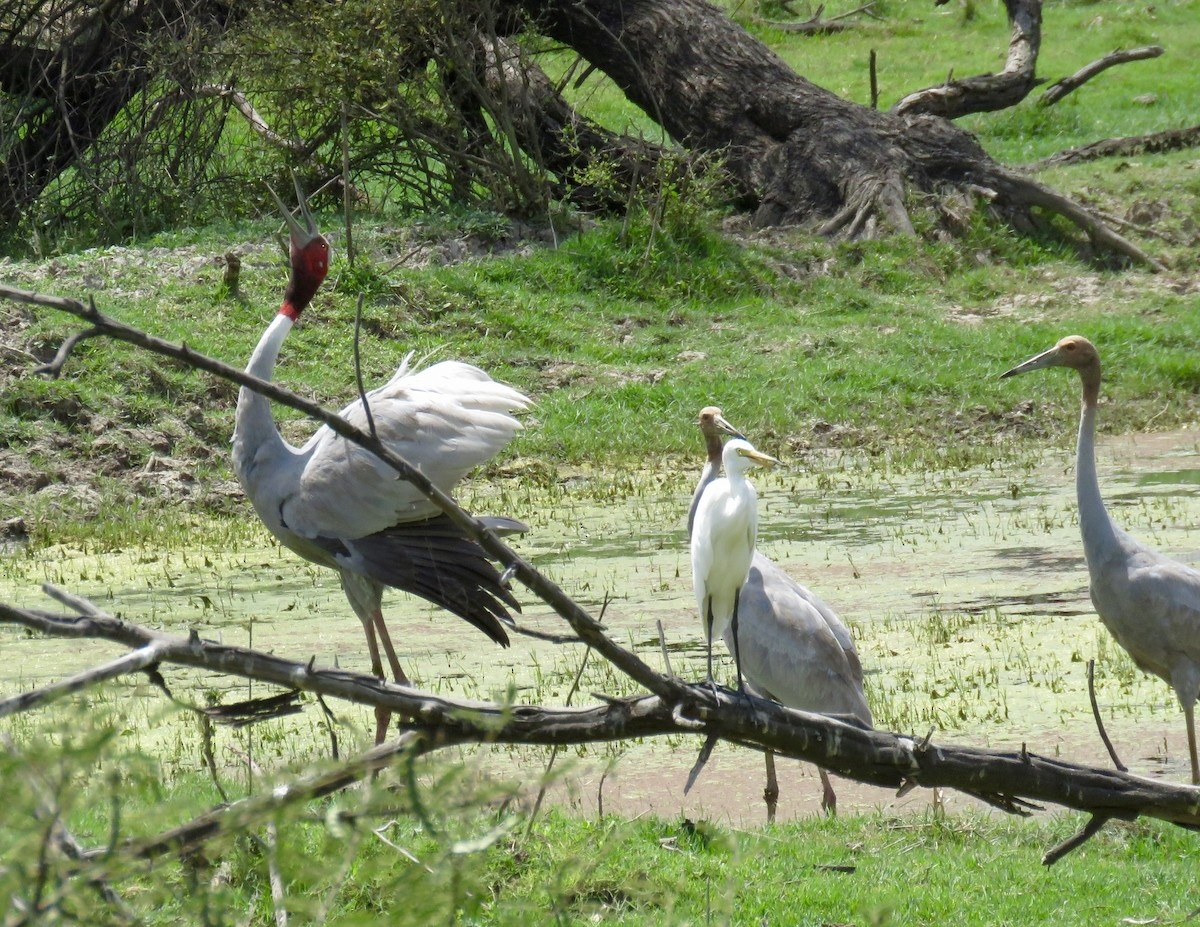crane: (226, 160, 515, 715), (1001, 329, 1200, 747), (690, 450, 793, 660), (698, 400, 748, 462)
